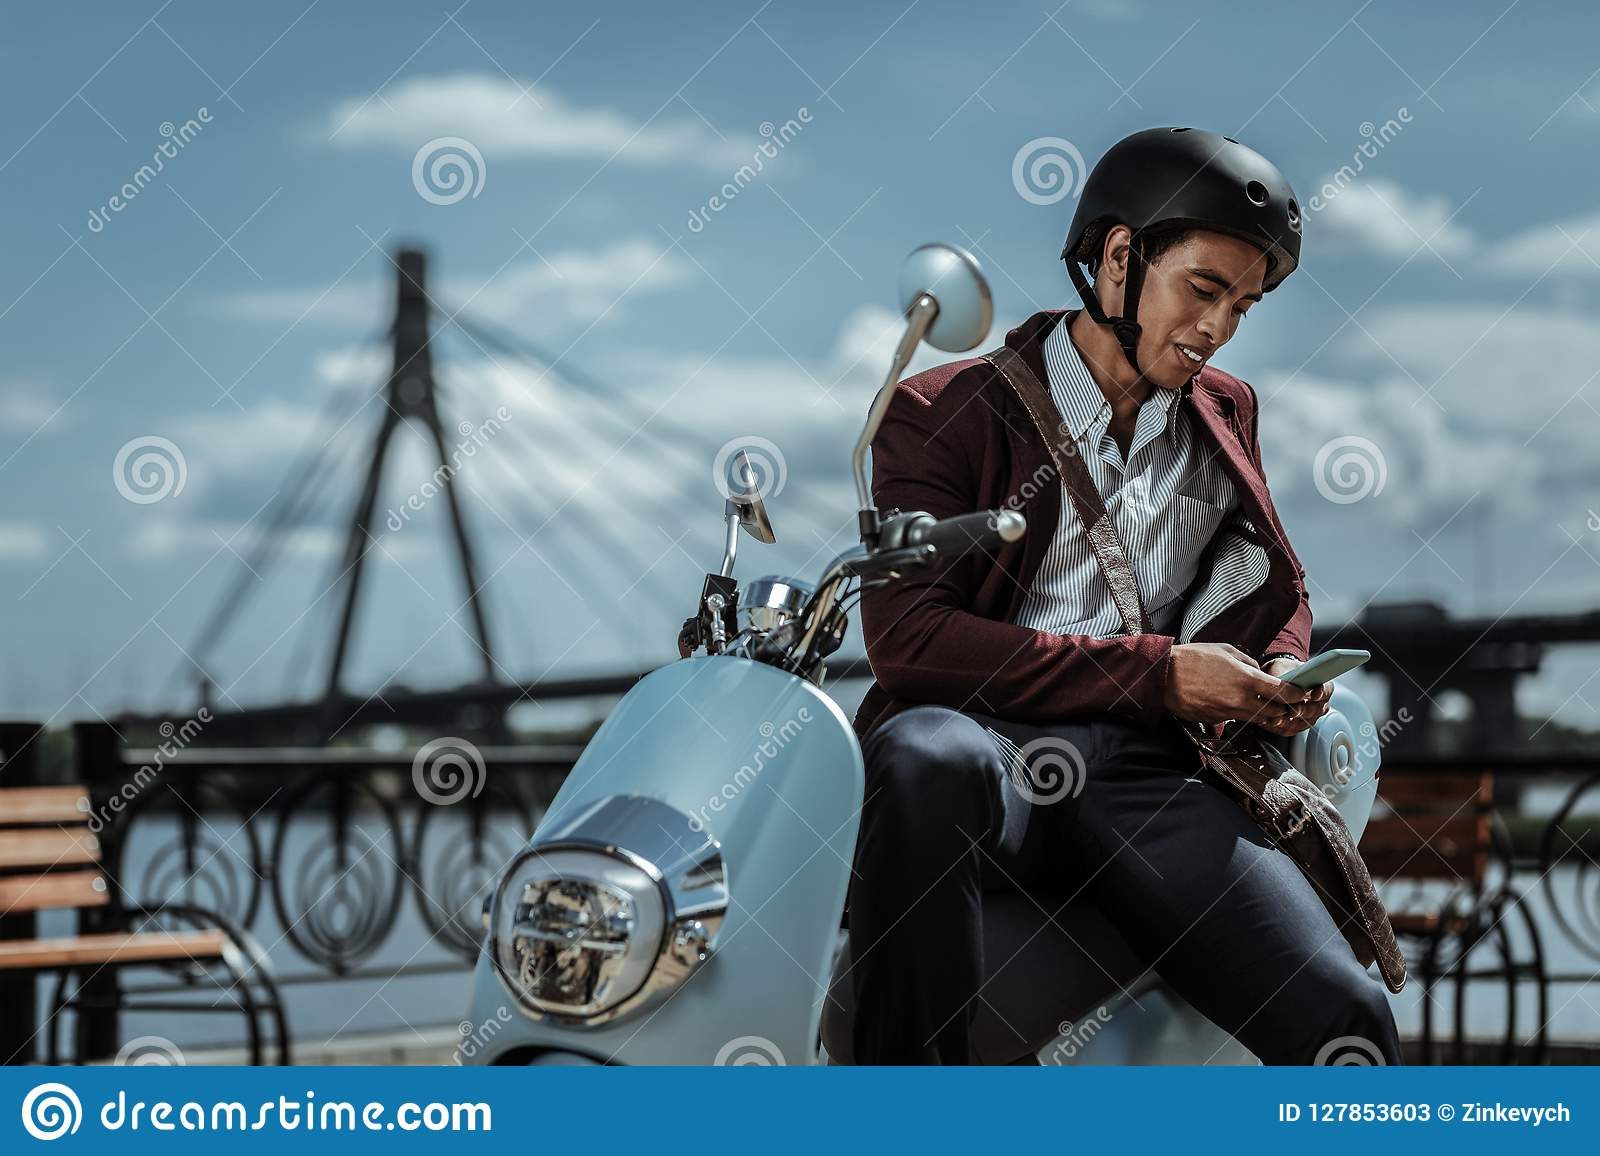helmet: (1050, 127, 1325, 274)
